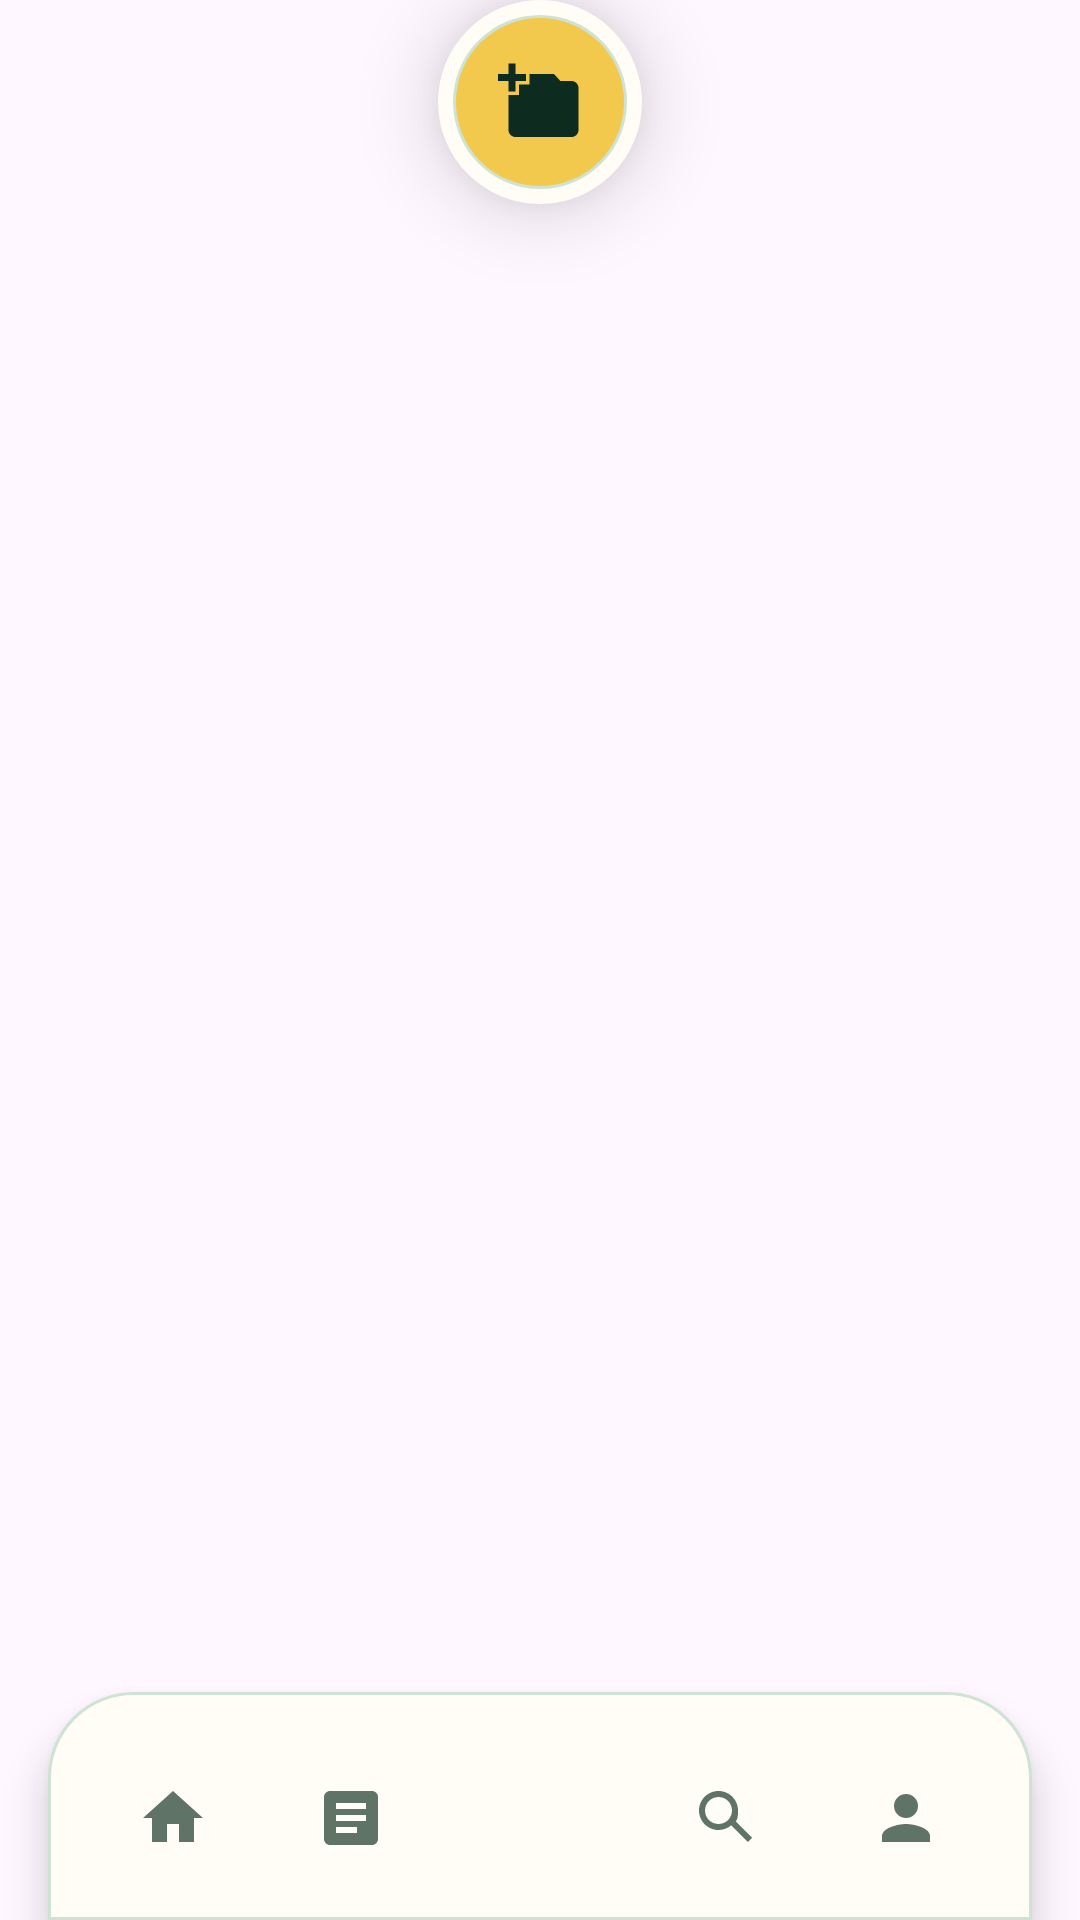

Named icons in this screenshot (1080×1920) and their bounding boxes, (x1, y1, x2, y2):
Home: (143, 1791, 203, 1842)
Profile: (882, 1794, 930, 1842)
Records: (324, 1791, 378, 1845)
Search: (699, 1791, 752, 1842)
